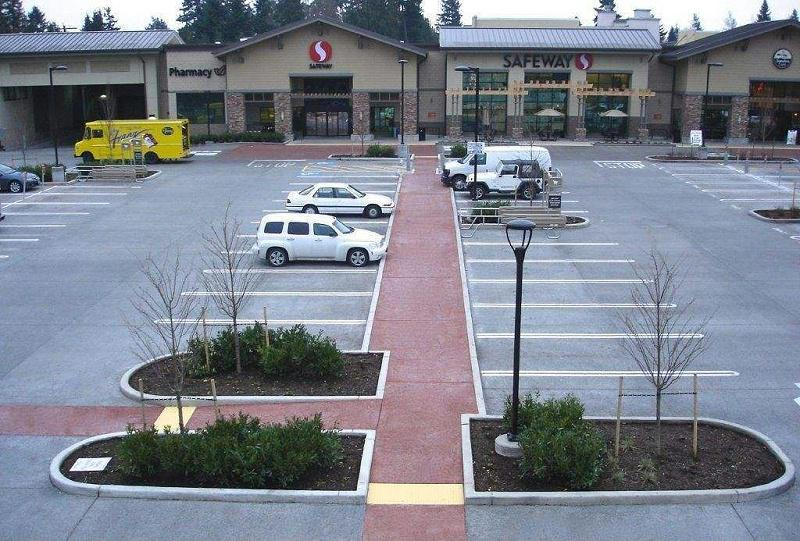empty: (484, 376, 747, 420), (479, 335, 731, 368), (145, 324, 367, 351), (475, 307, 700, 331), (159, 295, 372, 320), (472, 283, 669, 302), (187, 272, 372, 292), (466, 262, 650, 278), (465, 244, 628, 258), (228, 237, 383, 250), (242, 224, 385, 234), (2, 204, 106, 214), (459, 202, 583, 210), (268, 201, 390, 209), (18, 194, 123, 203), (276, 192, 394, 199), (0, 216, 82, 225), (283, 184, 396, 190), (42, 187, 138, 194), (294, 177, 398, 183)
occupied: (213, 252, 377, 270), (258, 212, 386, 220), (457, 192, 575, 200), (453, 182, 563, 190)
